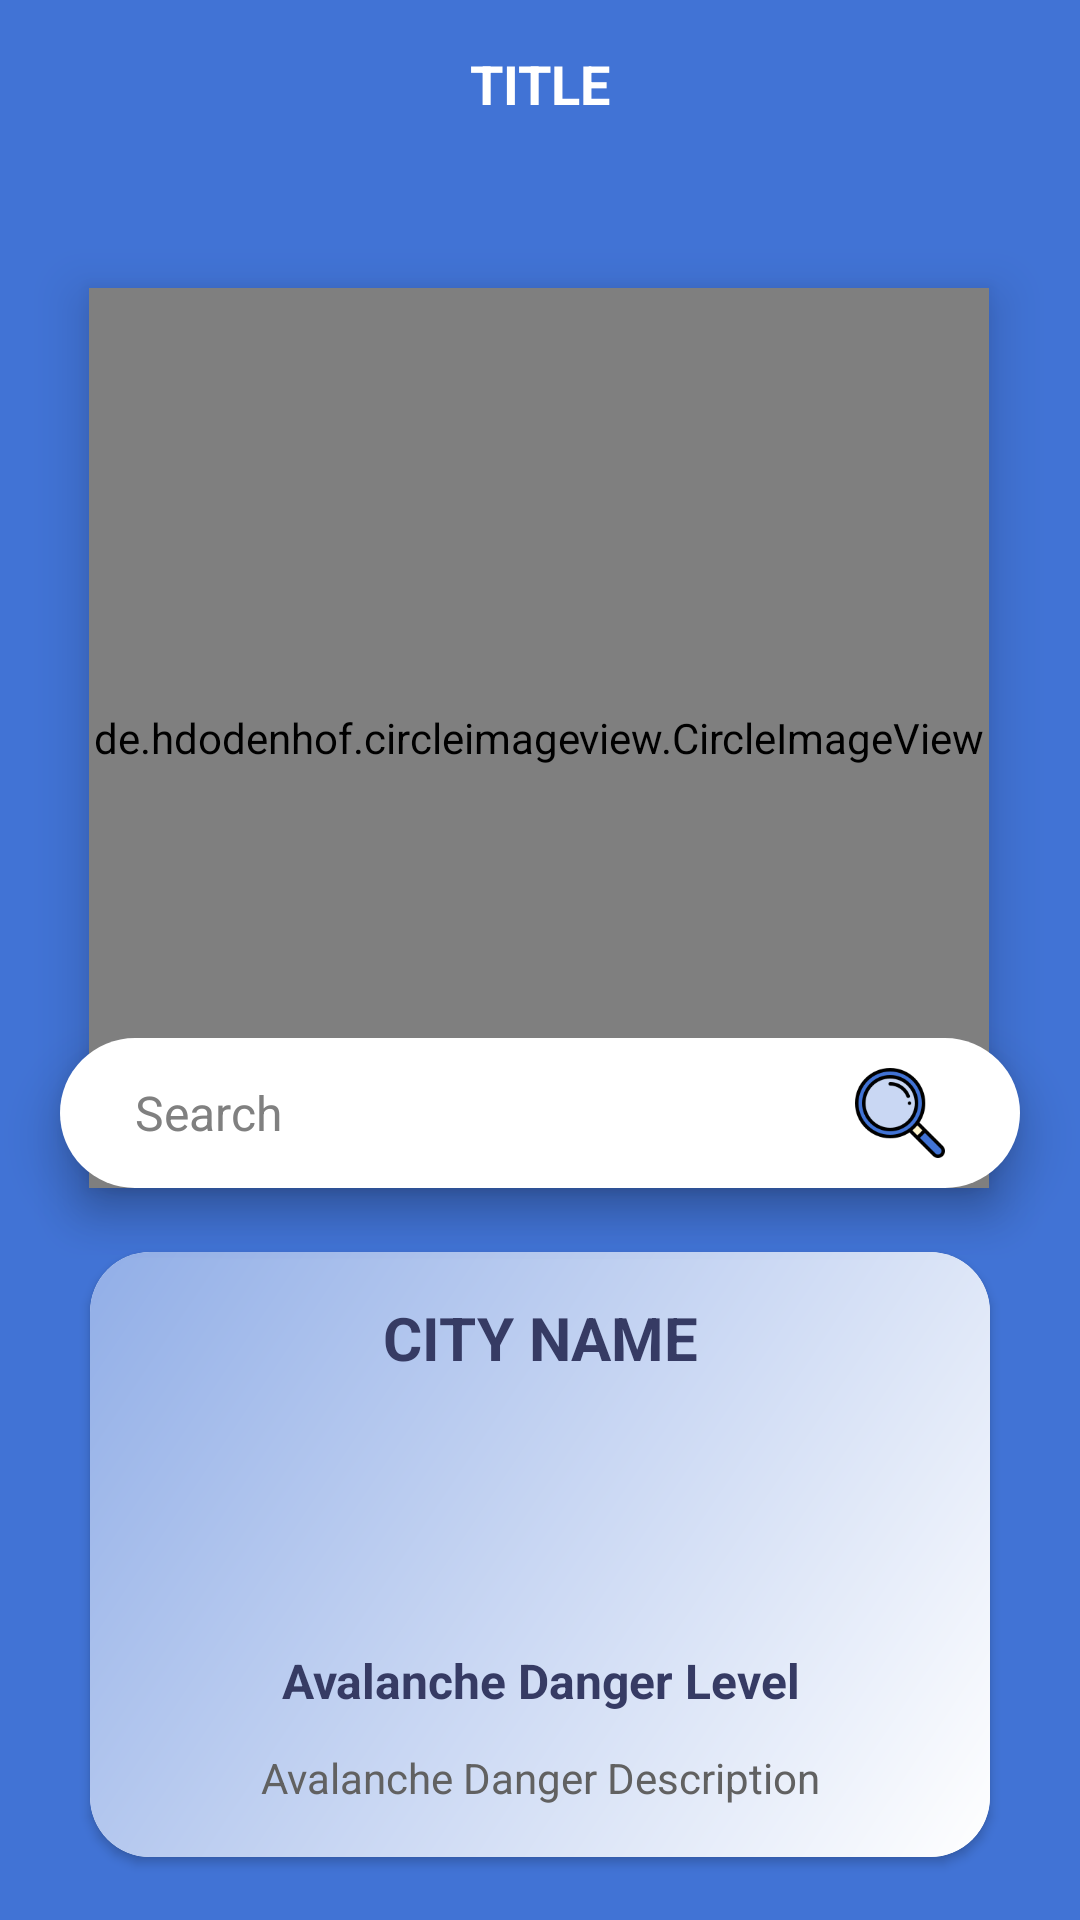

Screen size 1080px x 1920px. Icon name, then its center in pixels as (x,y):
Search: (900,1113)
